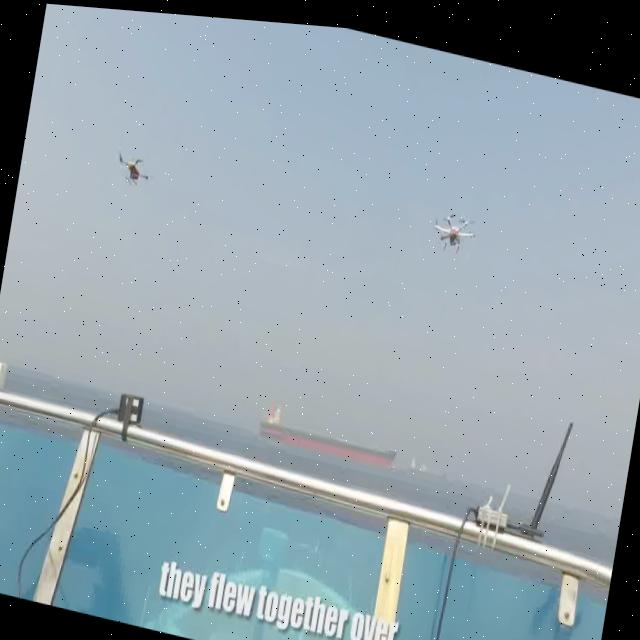drone: (432, 195, 478, 250), (110, 145, 152, 187)
